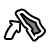ACCELERATOR: (1, 6, 50, 44)
